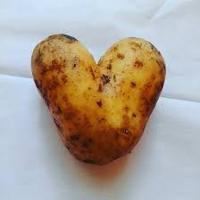biodegradable: (30, 33, 168, 165)
